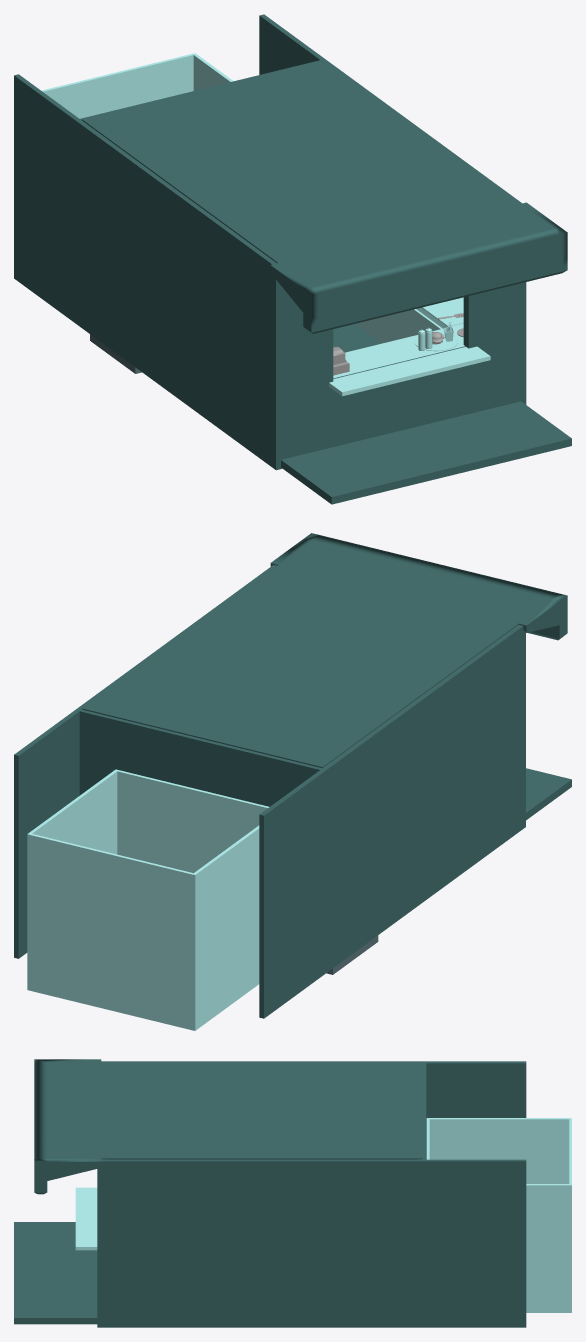
File: Base_EnvironmentModel.fbx
3 renders of one model, top to bottom at view 1: azimuth 30°, elevation 25°; view 2: azimuth 150°, elevation 25°; view 3: azimuth 270°, elevation 25°, orthographic. The views are drawn at different scales.
Visible parts, largest first — view 1: Walls, Ceiling, Floor, MockFront, Front_OutsideTable, Stove, FrontCounter; view 2: Walls, Ceiling, MockFront, Floor; view 3: Walls, Ceiling, MockFront, Floor, Front_OutsideTable.
Boxes of the visible parts, x1,y1,x2,y2 form: Walls: (14,14,526,470); Ceiling: (82,61,567,333); Floor: (281,324,571,504); MockFront: (41,53,233,118); Front_OutsideTable: (329,346,490,396); Stove: (357,297,463,343); FrontCounter: (333,324,464,378); Walls: (14,565,525,1018); Ceiling: (82,533,567,768); MockFront: (27,769,269,1030); Floor: (526,768,571,820); Walls: (97,1061,526,1327); Ceiling: (34,1059,422,1194); MockFront: (426,1118,571,1312); Floor: (14,1222,97,1324); Front_OutsideTable: (75,1187,97,1250).
Bounding box in the file's own units: 400 × 319 × 921.
